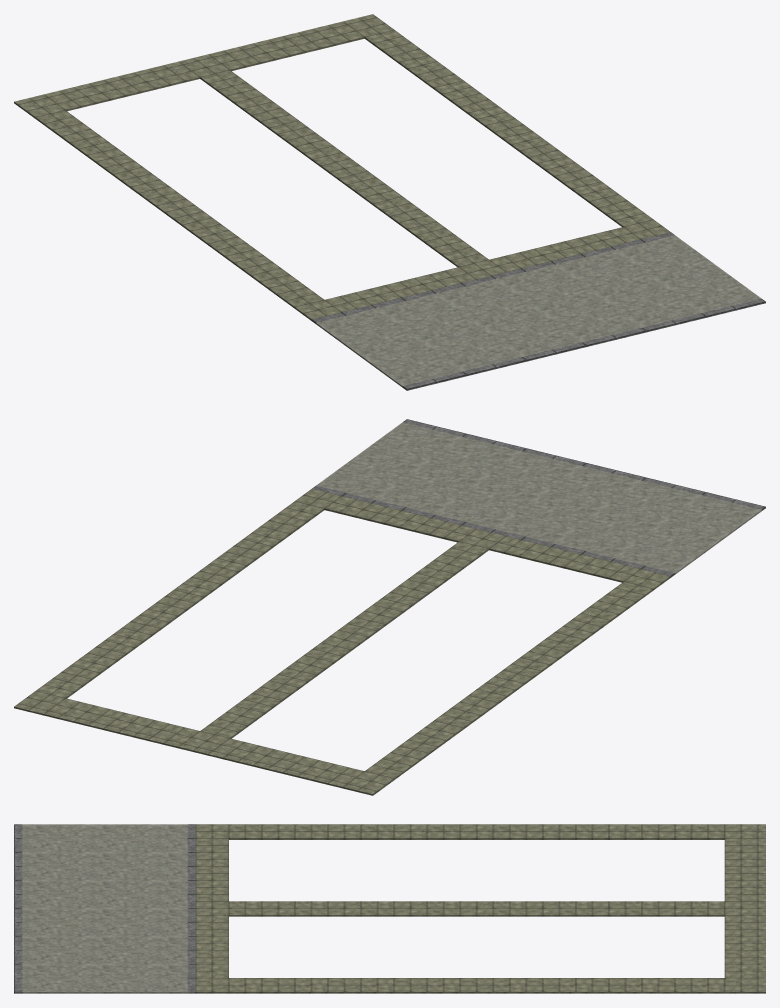
The model's file is centeral_park_east_ground.glb.
3 renders of one model, top to bottom at view 1: azimuth 30°, elevation 25°; view 2: azimuth 150°, elevation 25°; view 3: azimuth 270°, elevation 25°, orthographic. The views are drawn at different scales.
Visible parts, largest first — view 1: MainRoad2; view 2: MainRoad2; view 3: MainRoad2.
Part boxes in pixels (x1,y1,x2,y2): MainRoad2: [14, 14, 765, 390]; MainRoad2: [14, 419, 765, 795]; MainRoad2: [14, 824, 765, 993].
Size of the model in its own units: 24 by 0.1 by 45.5.
3 materials, 3 textured.
